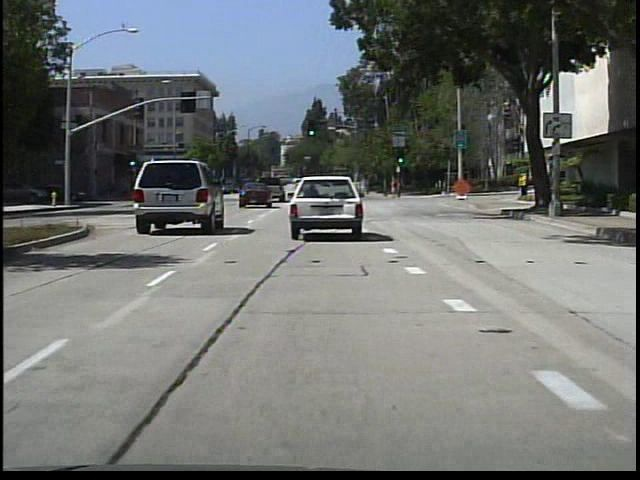person: (390, 172, 404, 201)
